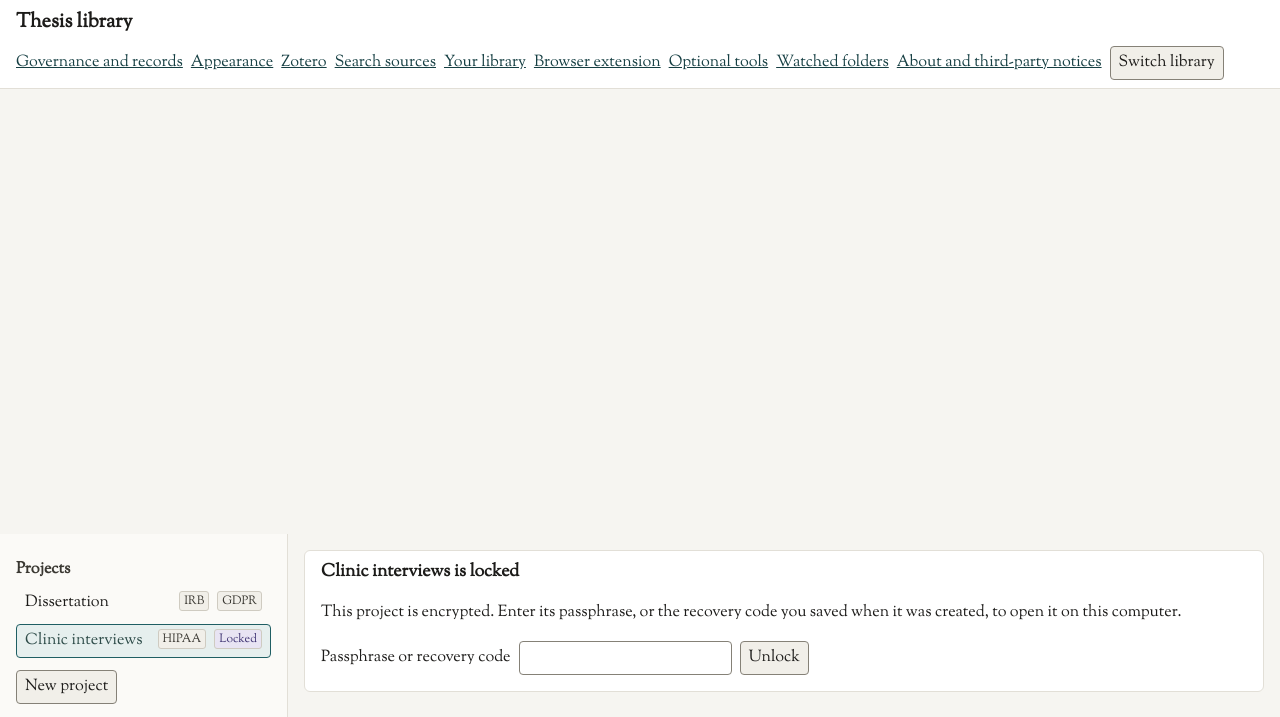
it: the optional tools in the app › is not on a locked project's unlock screen, and is on the unlocked project's library
Check: the password field labelled "Passphrase or recovery code" is shown, box [518,641,732,675]
Click the button "Dissertation IRB GDPR".
click(144, 603)  # box [16,586,271,620]
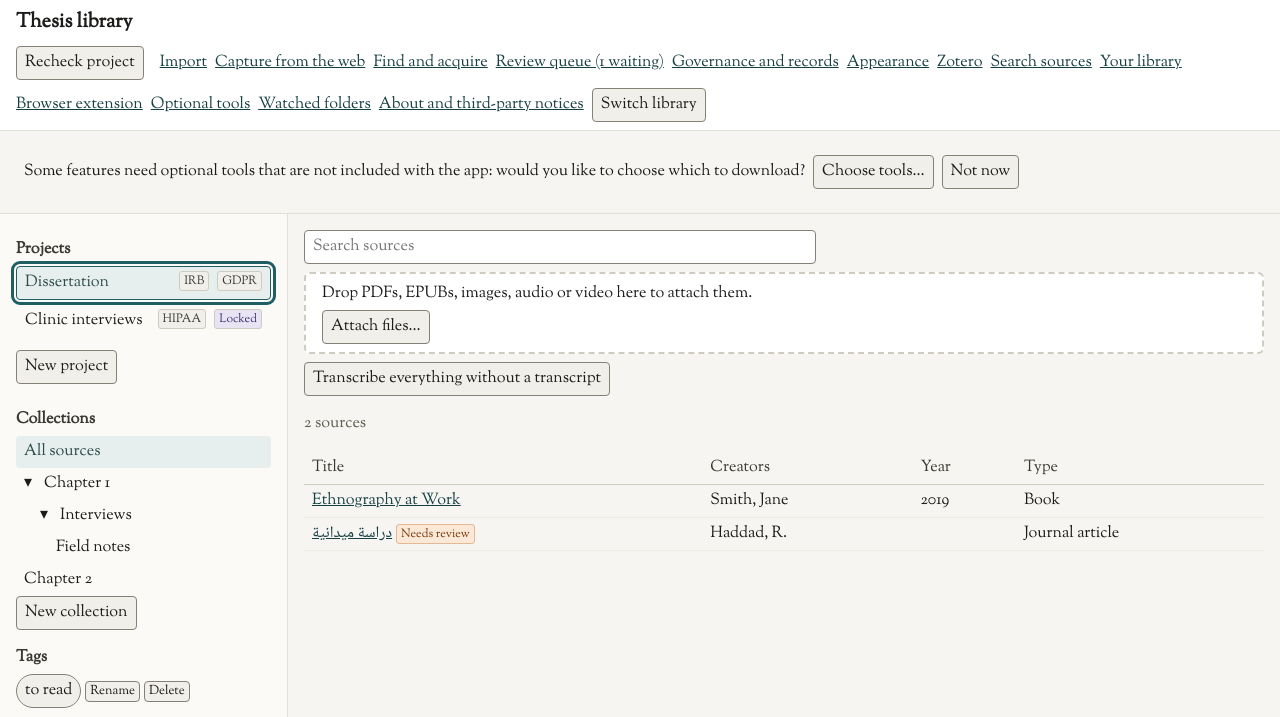
Check: the text "Some features need optional tools that are not included with the app: would you like to choose which to download?" is shown, box [24,160,805,183]
